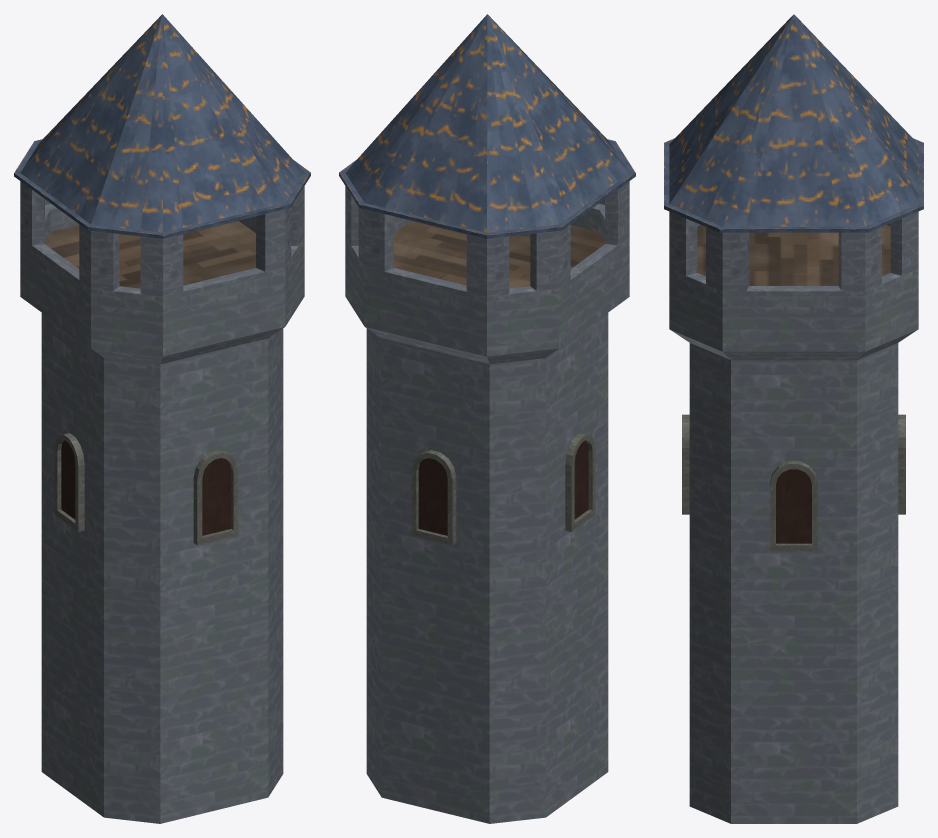
Rendered from SM_Fortress_TowerHight.fbx.
3 renders of one model, left to right at view 1: azimuth 30°, elevation 25°; view 2: azimuth 150°, elevation 25°; view 3: azimuth 270°, elevation 25°, orthographic.
Visible parts, largest first — view 1: polySurface842; view 2: polySurface842; view 3: polySurface842.
Boxes of the visible parts, <box> form: polySurface842: <box>14,14,310,823</box>; polySurface842: <box>339,14,635,823</box>; polySurface842: <box>664,14,923,823</box>.
Bounding box in the file's own units: 688 × 2237 × 688.
